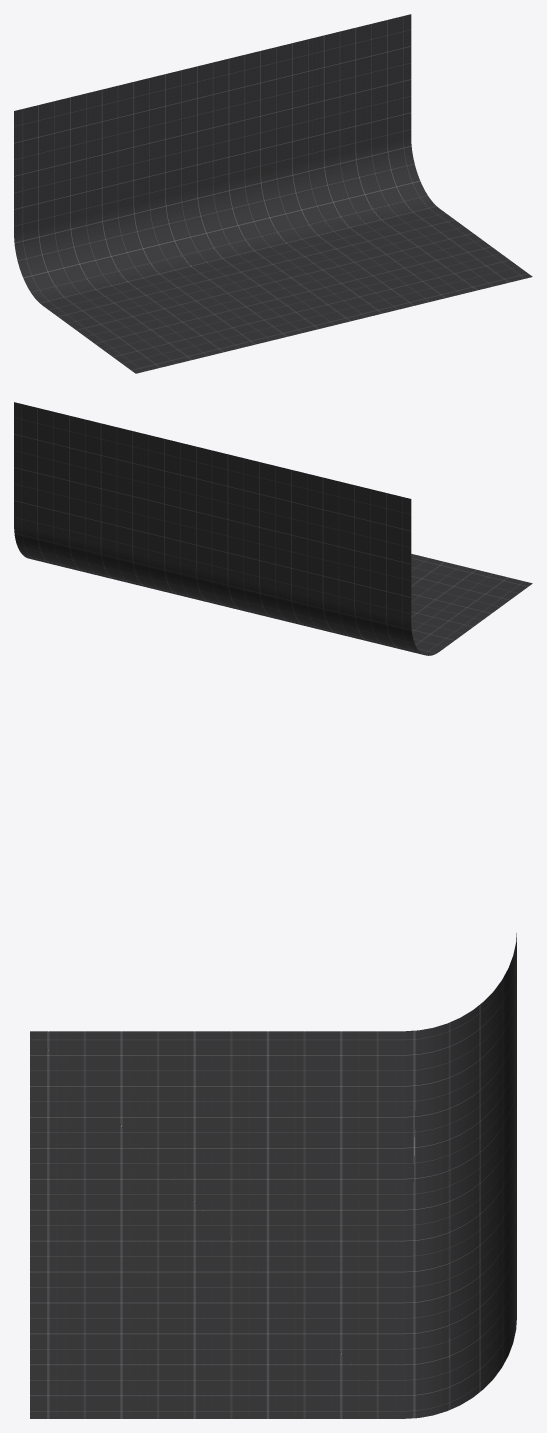
3 views of the same model, one above another, from view 1: azimuth 30°, elevation 25°; view 2: azimuth 150°, elevation 25°; view 3: azimuth 270°, elevation 25° (orthographic). The views are drawn at different scales.
Visible parts, largest first — view 1: BG_mesh; view 2: BG_mesh; view 3: BG_mesh.
Boxes of the visible parts, left/top/right/bottom form: BG_mesh: left=14, top=14, right=532, bottom=373; BG_mesh: left=14, top=402, right=532, bottom=655; BG_mesh: left=30, top=933, right=516, bottom=1418.
Size of the model in its own units: 923 by 385 by 490.
1 material, 1 textured.
